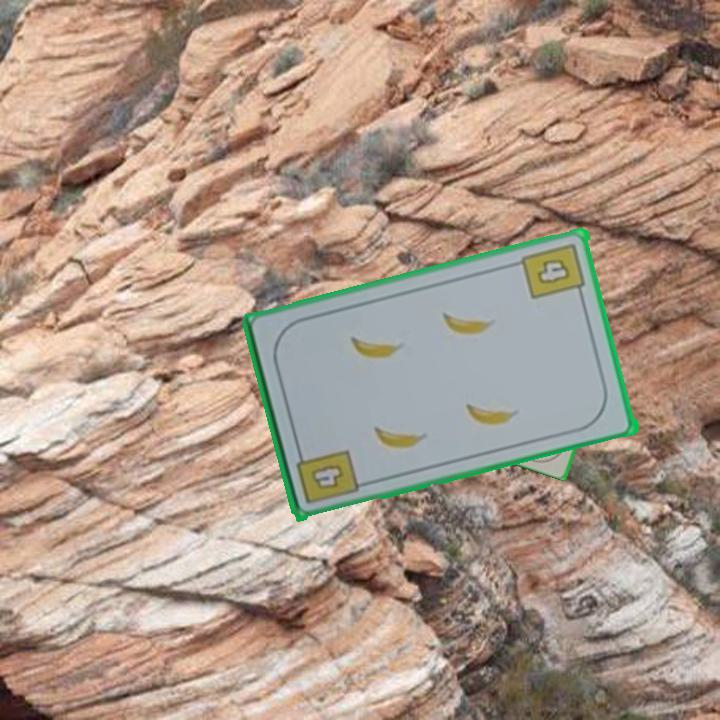4b: (519, 238, 589, 302), (292, 444, 362, 507)
